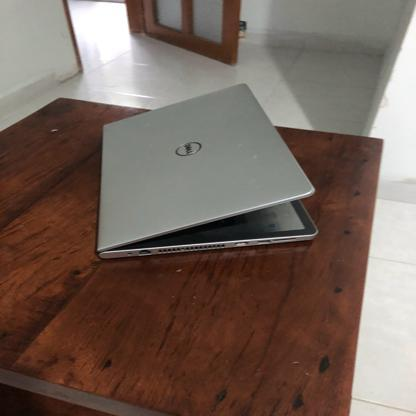laptop: (102, 77, 315, 256)
